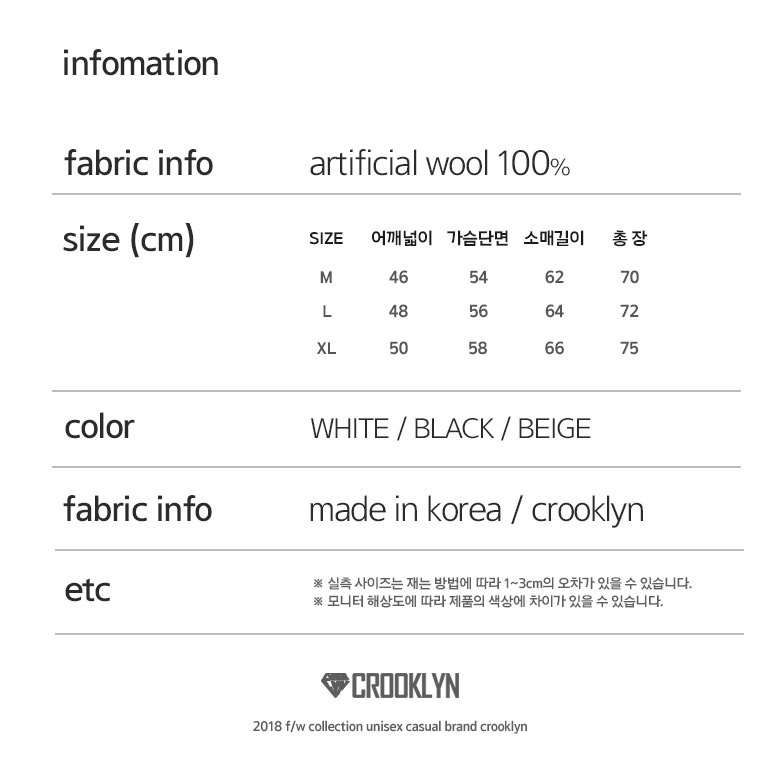table: (303, 224, 653, 369)
